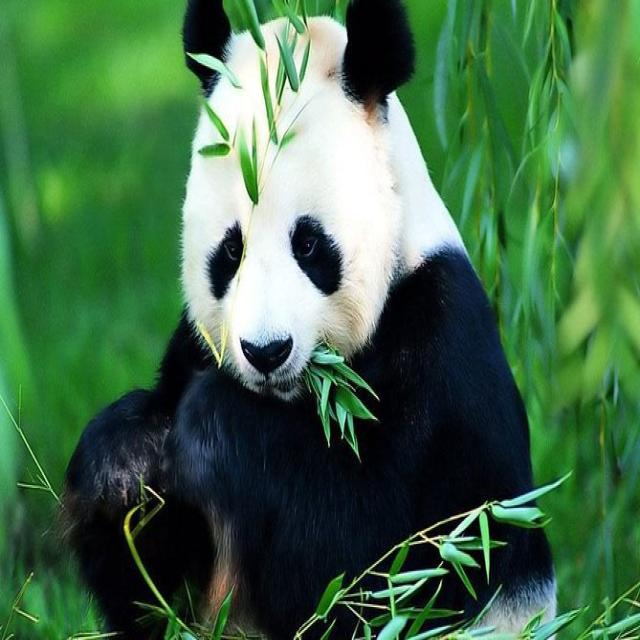Panda: (62, 0, 570, 640)
